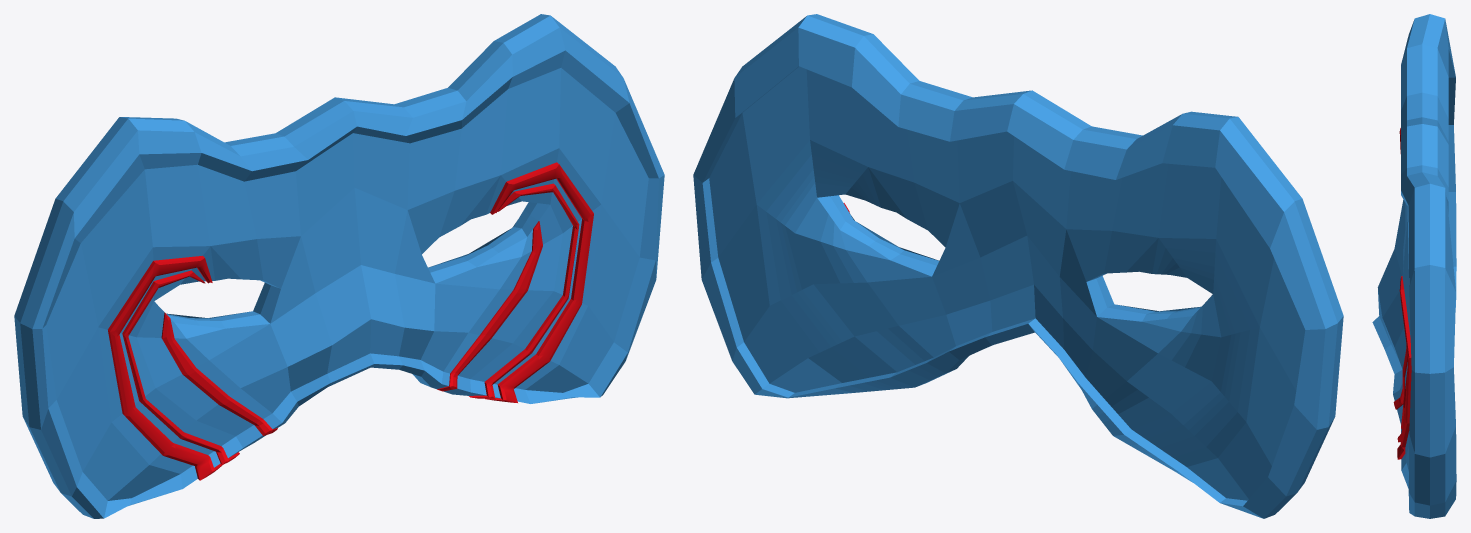
File: маска.fbx
3 renders of one model, left to right at view 1: azimuth 30°, elevation 25°; view 2: azimuth 150°, elevation 25°; view 3: azimuth 270°, elevation 25°, orthographic. The views are drawn at different scales.
Parts seen in each view (by area): view 1: Cube; view 2: Cube; view 3: Cube.
Part boxes in pixels (x1,y1,x2,y2): Cube: (14, 14, 664, 518); Cube: (693, 14, 1343, 518); Cube: (1372, 14, 1456, 518).
Size of the model in its own units: 579 by 334 by 80.26.
